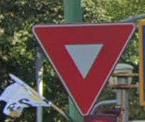cedeaza: (29, 19, 137, 119)
